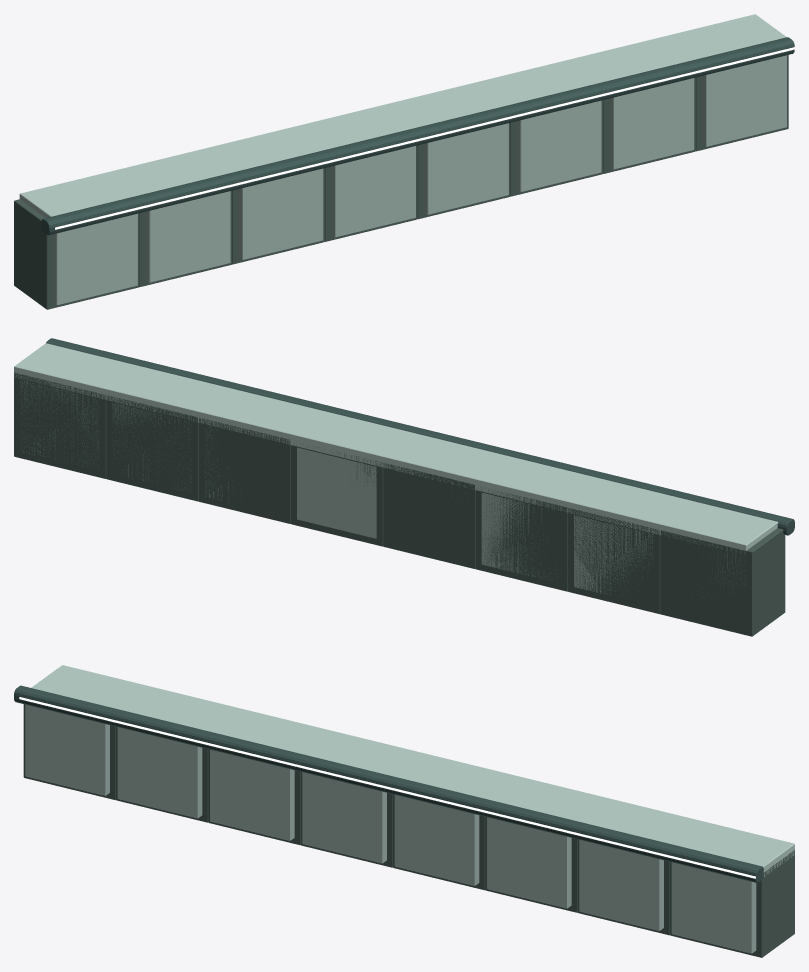
Rendered from Terrain_TopRun8L.gltf.
The picture shows the model from 3 angles, top to bottom: view 1: azimuth 30°, elevation 25°; view 2: azimuth 150°, elevation 25°; view 3: azimuth 330°, elevation 25°; orthographic projection.
Parts seen in each view (by area): view 1: Terrain_TopRun8L_baked; view 2: Terrain_TopRun8L_baked; view 3: Terrain_TopRun8L_baked.
Boxes of the visible parts, x1,y1,x2,y2 form: Terrain_TopRun8L_baked: [14, 14, 794, 309]; Terrain_TopRun8L_baked: [14, 338, 794, 636]; Terrain_TopRun8L_baked: [14, 665, 794, 957].
Bounding box in the file's own units: 8.04 × 0.9495 × 0.74.
